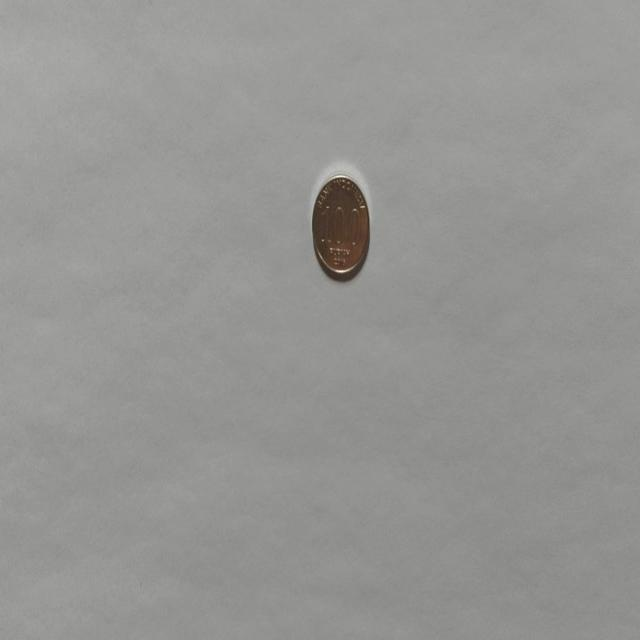seratus rupiah: (310, 171, 370, 281)
